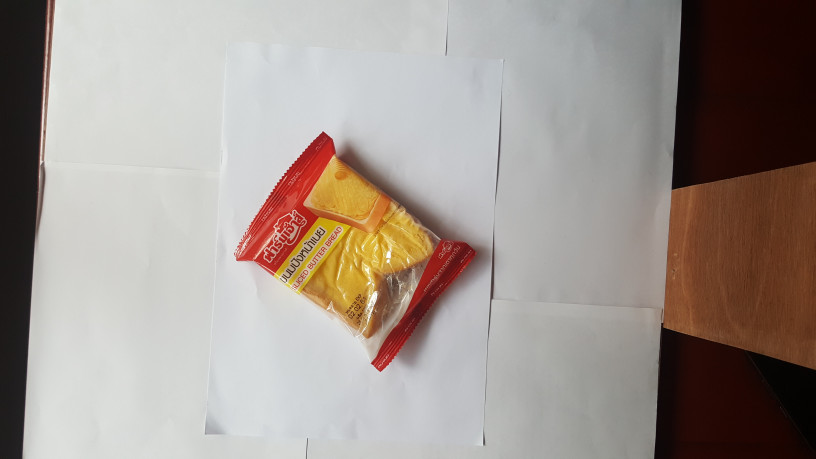farmhouse-bread-butter: (221, 130, 476, 377)
